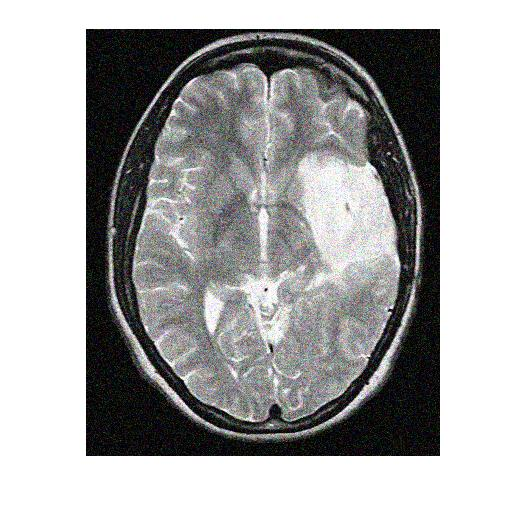Brain_Cancer: (292, 149, 399, 275)
